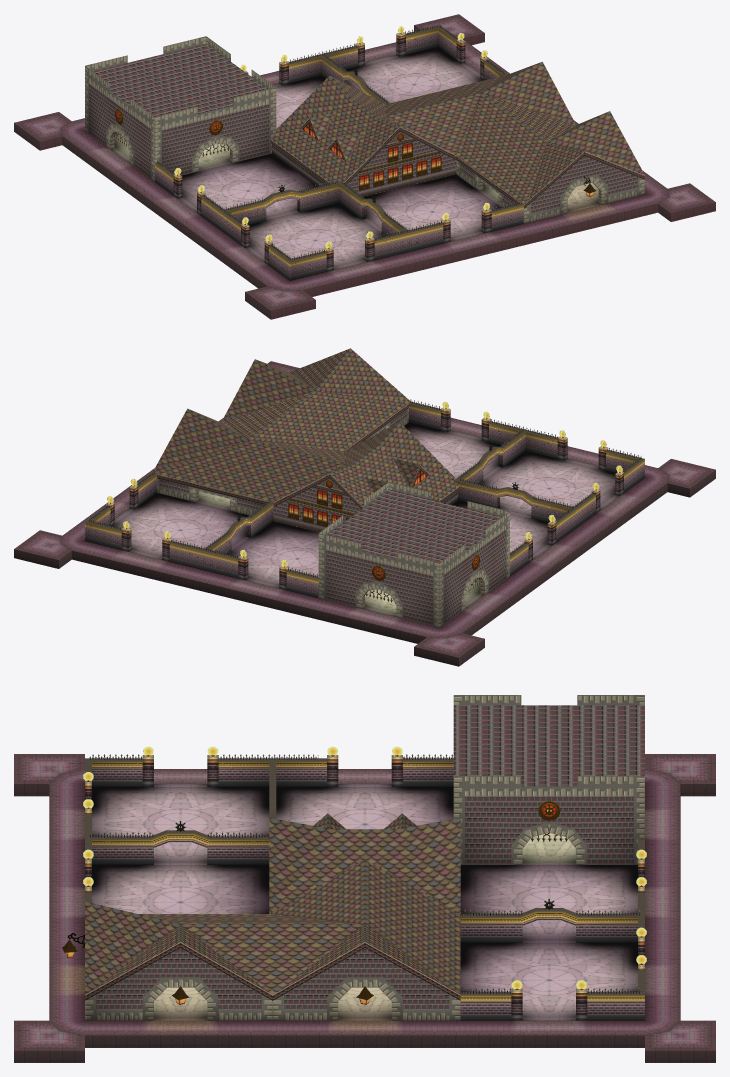
The model's file is mini_stage2.glb.
3 views of the same model, one above another, from view 1: azimuth 30°, elevation 25°; view 2: azimuth 150°, elevation 25°; view 3: azimuth 270°, elevation 25° (orthographic). The views are drawn at different scales.
Visible parts, largest first — view 1: mini_stage2; view 2: mini_stage2; view 3: mini_stage2.
Boxes of the visible parts, x1,y1,x2,y2 form: mini_stage2: (14,14,715,319); mini_stage2: (14,348,715,666); mini_stage2: (14,695,715,1062).
Bounding box in the file's own units: 124 × 19.66 × 124.
Materials: 16 (16 with a texture image).
